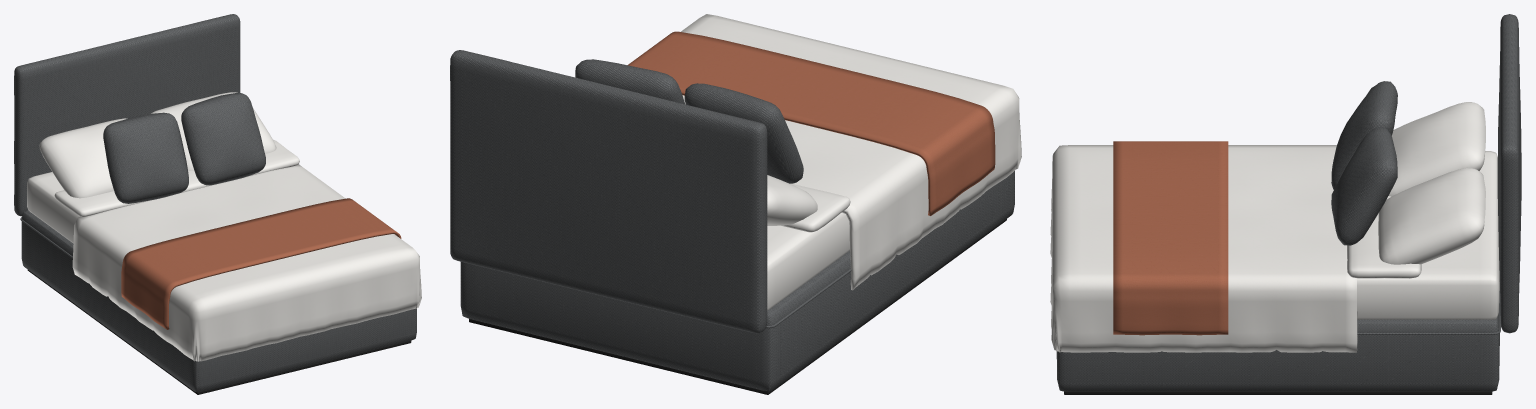
The model's file is canape_135.glb.
3 views of the same model, side by side, from view 1: azimuth 30°, elevation 25°; view 2: azimuth 150°, elevation 25°; view 3: azimuth 270°, elevation 25° (orthographic). The views are drawn at different scales.
Visible parts, largest first — view 1: canape_135; view 2: canape_135; view 3: canape_135.
Part boxes in pixels (bbox=[...]): canape_135: bbox=[14, 14, 421, 394]; canape_135: bbox=[450, 14, 1021, 394]; canape_135: bbox=[1050, 14, 1521, 394].
Bounding box in the file's own units: 1.5 × 1.21 × 2.05.
Materials: 4 (3 with a texture image).
